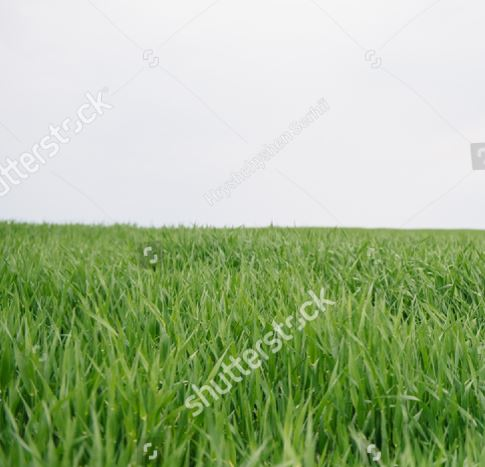Wheat: (90, 254, 472, 389)
